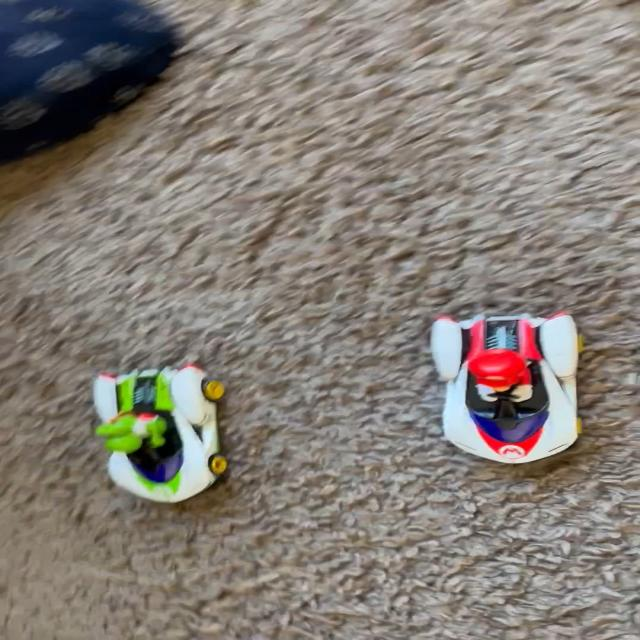mario: (420, 290, 589, 474)
yoshi: (81, 336, 246, 522)
